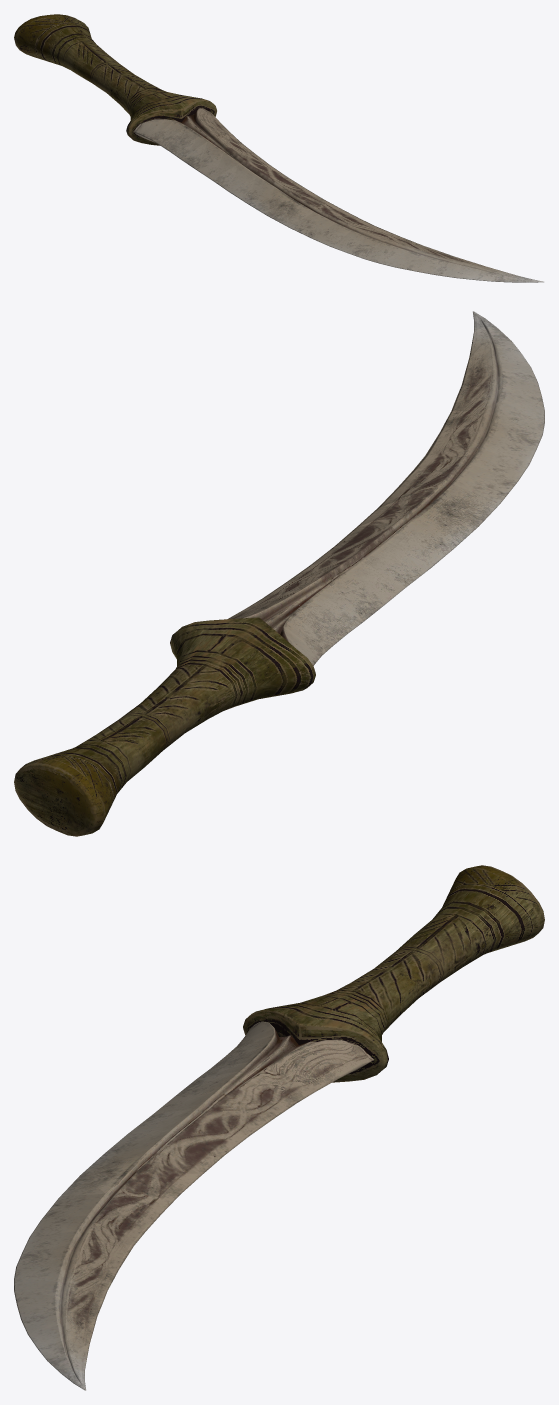
The picture shows the model from 3 angles, top to bottom: view 1: azimuth 30°, elevation 25°; view 2: azimuth 150°, elevation 25°; view 3: azimuth 330°, elevation 25°; orthographic projection. The views are drawn at different scales.
Parts seen in each view (by area): view 1: WP_A_0123; view 2: WP_A_0123; view 3: WP_A_0123.
Part boxes in pixels (x1,y1,x2,y2): WP_A_0123: [14, 14, 543, 282]; WP_A_0123: [14, 311, 544, 836]; WP_A_0123: [14, 865, 544, 1390].
Size of the model in its own units: 15.2 by 3.72 by 63.35.
Materials: 1 (1 with a texture image).
